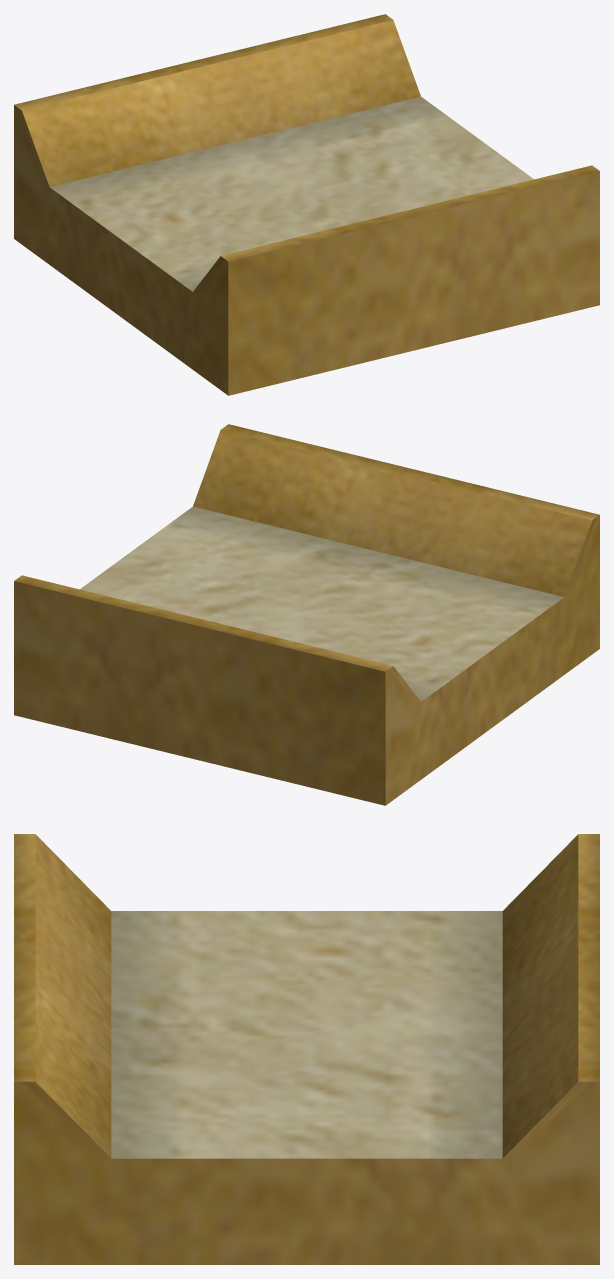
The model's file is egy_tile_ew.obj.
3 renders of one model, top to bottom at view 1: azimuth 30°, elevation 25°; view 2: azimuth 150°, elevation 25°; view 3: azimuth 270°, elevation 25°, orthographic. The views are drawn at different scales.
Visible parts, largest first — view 1: tile_straight; view 2: tile_straight; view 3: tile_straight.
Boxes of the visible parts, x1,y1,x2,y2 form: tile_straight: (14, 14, 599, 395); tile_straight: (14, 424, 599, 805); tile_straight: (14, 834, 599, 1264).
Bounding box in the file's own units: 1 × 0.345 × 1.
